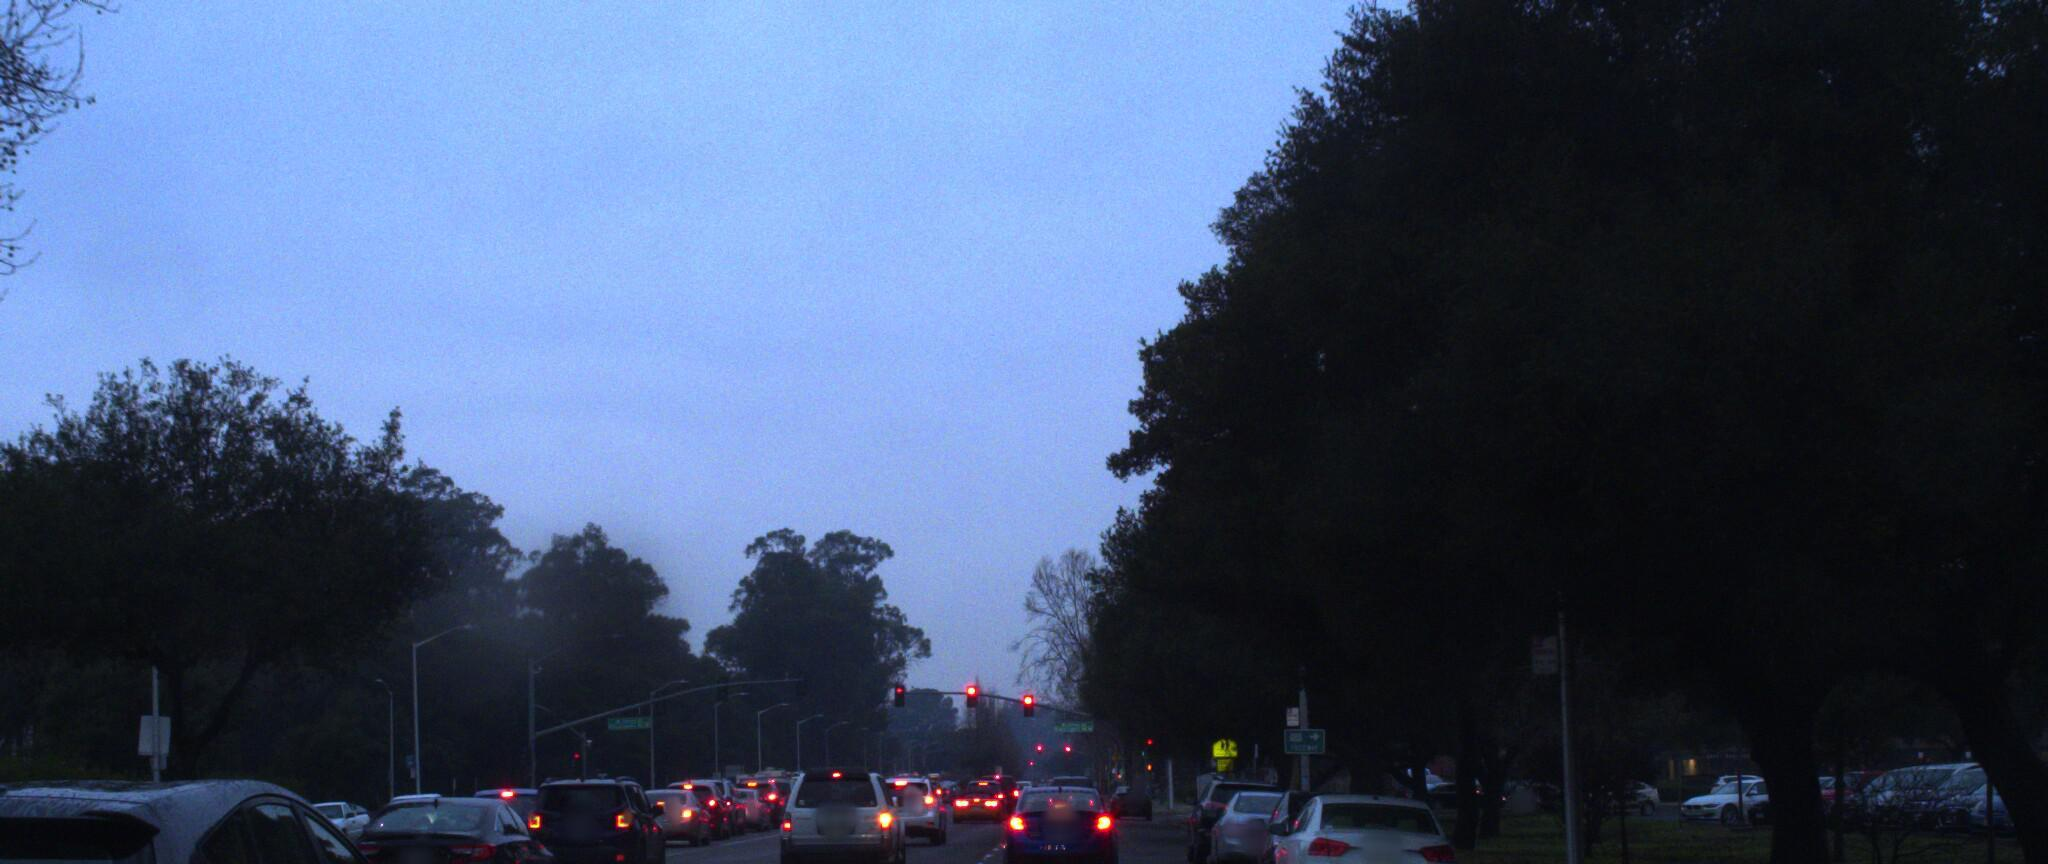car: (0, 764, 509, 864), (1253, 767, 1462, 864), (340, 784, 569, 864), (516, 754, 678, 864), (1238, 764, 1401, 864), (771, 754, 908, 864), (993, 761, 1110, 864), (1196, 767, 1317, 864), (428, 775, 556, 864), (613, 767, 713, 837), (892, 757, 978, 831)
